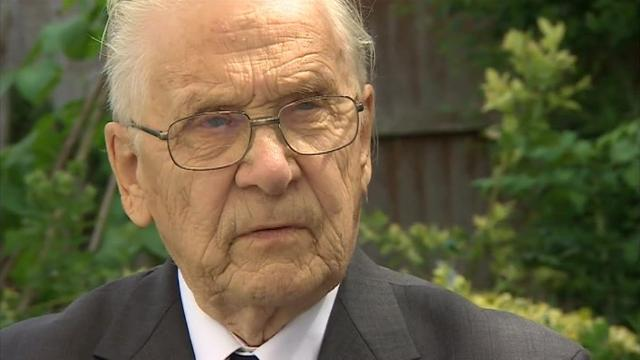crows_feet: (324, 102, 344, 128), (167, 124, 187, 150)
forehead: (183, 74, 227, 92), (242, 35, 280, 53), (268, 15, 310, 31), (290, 46, 324, 62), (282, 29, 314, 45), (282, 66, 318, 80), (245, 59, 261, 87)
frown_line: (246, 92, 278, 112)
gummy_smile: (298, 161, 322, 201), (218, 176, 238, 222)
masseter: (332, 158, 358, 192), (197, 231, 215, 261), (176, 185, 194, 214)
sad_smile: (305, 228, 331, 262), (218, 241, 236, 275)
